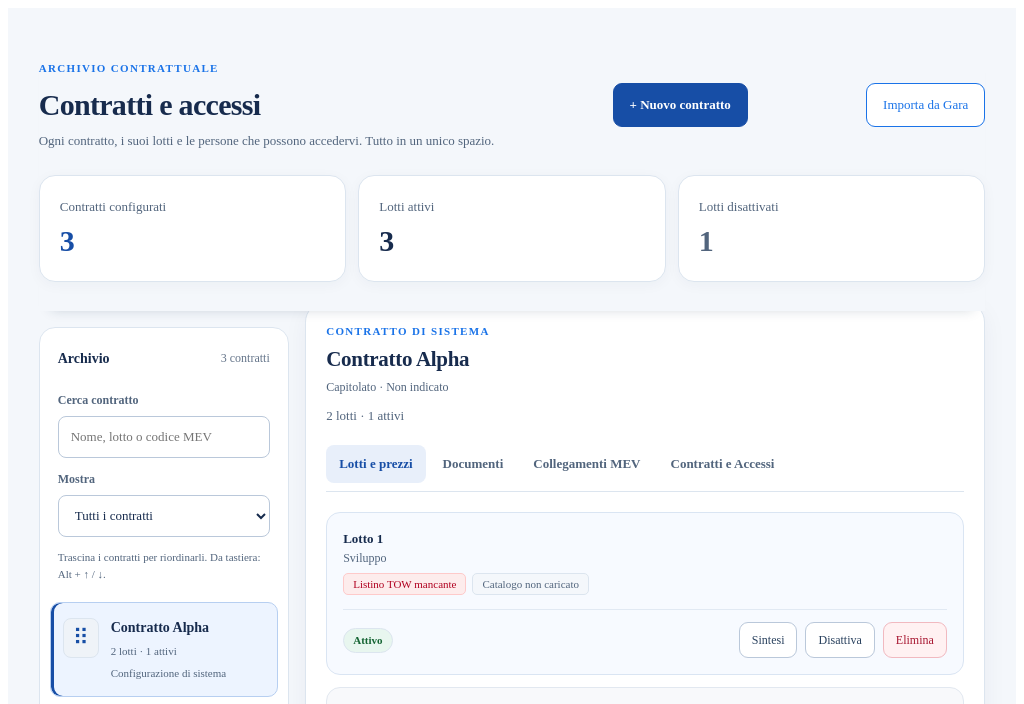
Scenario: search selects the matching contract and keeps the directory usable with no results
The image size is (1024, 704).
Type "Manutenzione" into the search field labelled "Cerca contratto".
click(164, 437); type("Manutenzione")  # box x1=58 y1=416 x2=270 y2=458
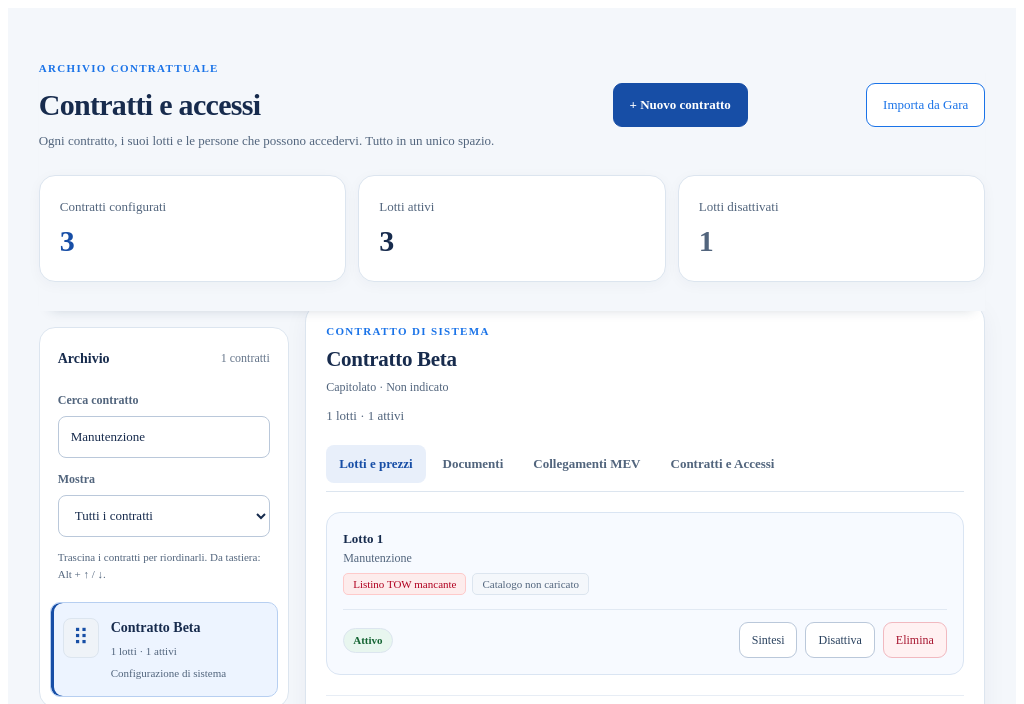
Now the heading "Contratto Beta" is shown, box x1=326 y1=347 x2=457 y2=371
Replace the text in the search field labelled "Cerca contratto" with "nessuno" at (164, 437), box x1=58 y1=416 x2=270 y2=458
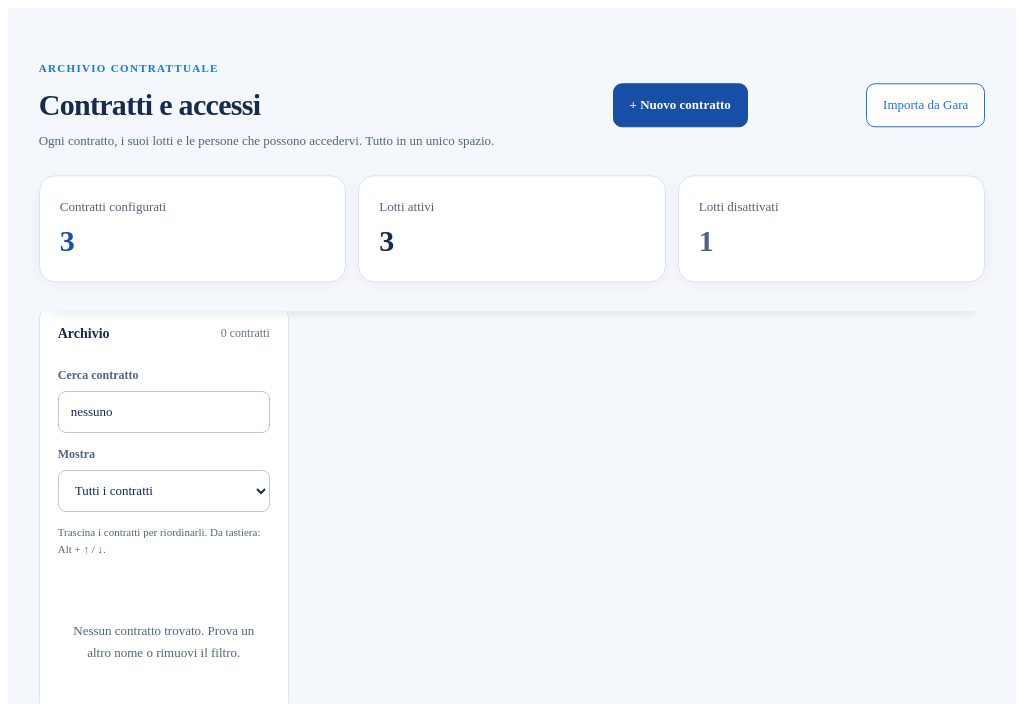
Now the text "Nessun contratto trovato" is shown, box x1=73 y1=623 x2=254 y2=660
